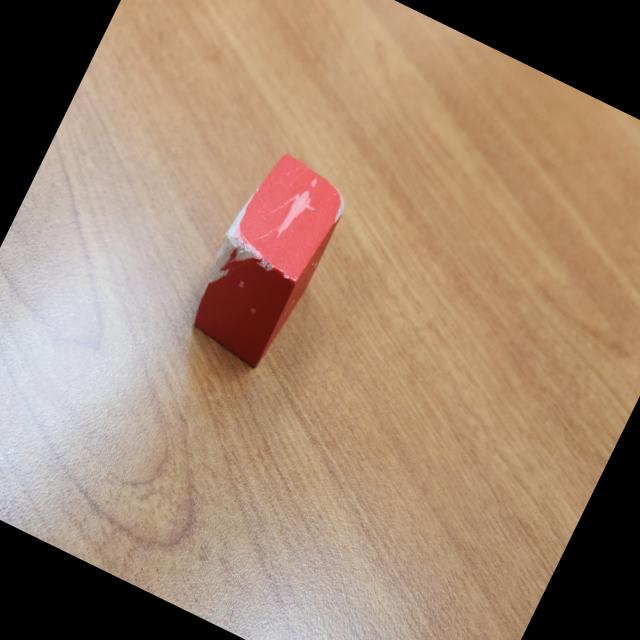broken: (177, 141, 356, 374)
